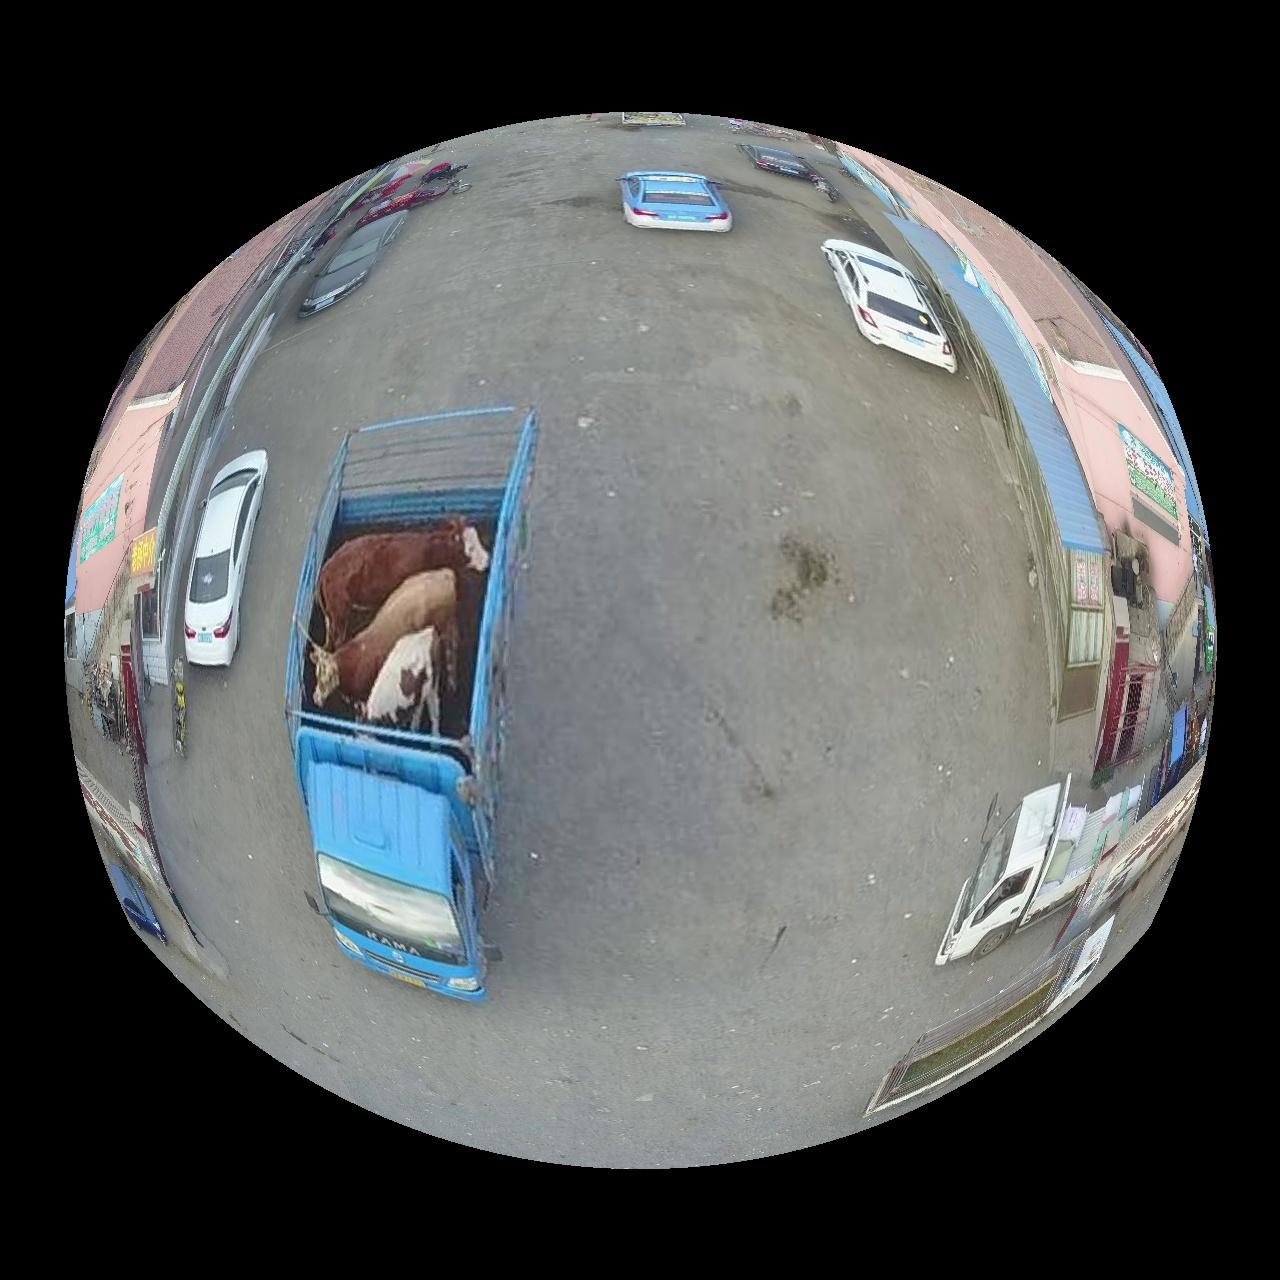building: (843, 149, 1207, 781), (66, 383, 182, 692)
cars: (286, 406, 537, 1002), (866, 915, 1117, 1117), (938, 779, 1144, 967), (182, 450, 267, 666), (823, 239, 959, 372), (299, 209, 408, 314), (619, 170, 734, 231), (108, 866, 164, 942)
